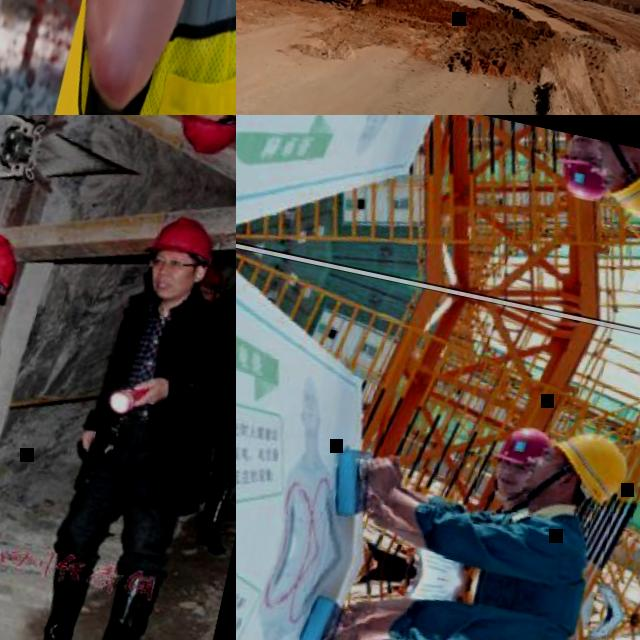Hardhat: (544, 424, 637, 509), (148, 210, 223, 267), (551, 154, 613, 203), (169, 115, 236, 159), (605, 146, 640, 227), (494, 422, 554, 467), (0, 220, 24, 293), (200, 266, 226, 292)
NO-Mask: (150, 268, 197, 304), (525, 456, 553, 491), (596, 140, 631, 166), (493, 470, 526, 495), (566, 133, 602, 155)
NO-Safety Vest: (100, 289, 229, 449), (486, 506, 599, 621), (467, 575, 590, 640), (219, 320, 236, 416)
Person: (34, 203, 236, 640), (352, 386, 635, 590), (358, 399, 553, 568), (301, 558, 597, 640), (44, 0, 236, 115), (174, 260, 236, 549), (320, 569, 519, 640), (167, 115, 236, 163), (193, 263, 230, 310)
Safety Vest: (45, 0, 236, 115)
